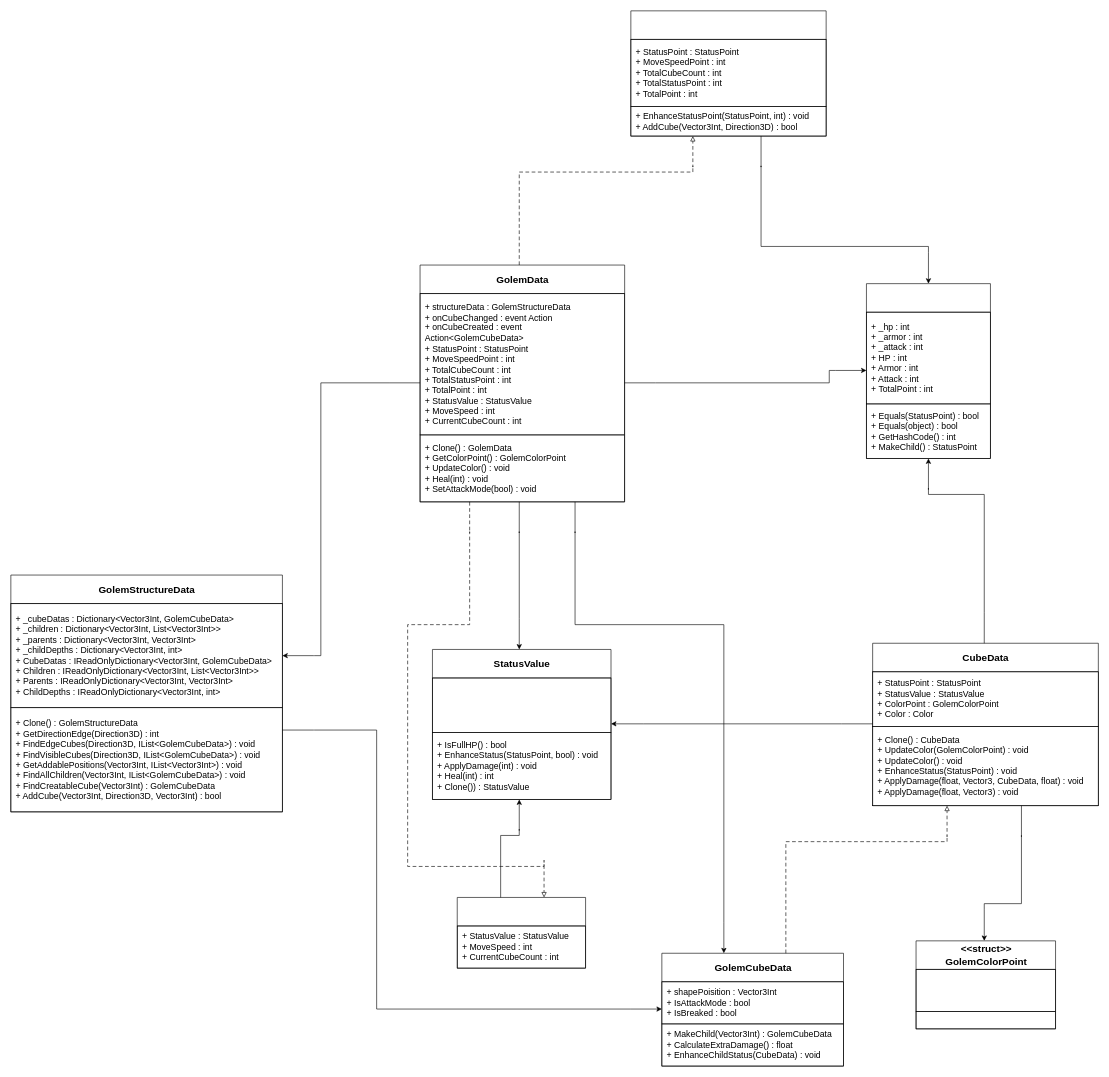
The diagram is 1109 pixels wide and 1077 high, and some of its shapes have lost their labels. Each missing label, with the box of its shape:
+ MakeChild() : GolemColorPoint: (915, 1011, 1056, 1029)
+ MaxHP : int + HP : int + Armor : int + Attack : int: (432, 677, 611, 733)
+ r : int + g : int + b : int: (915, 969, 1056, 1012)
<<interface>> IGolemStatusPoint: (630, 10, 826, 136)
<<interface>> IGolemStatusValue: (457, 897, 586, 968)
<<struct>> StatusPoint: (866, 283, 990, 458)
